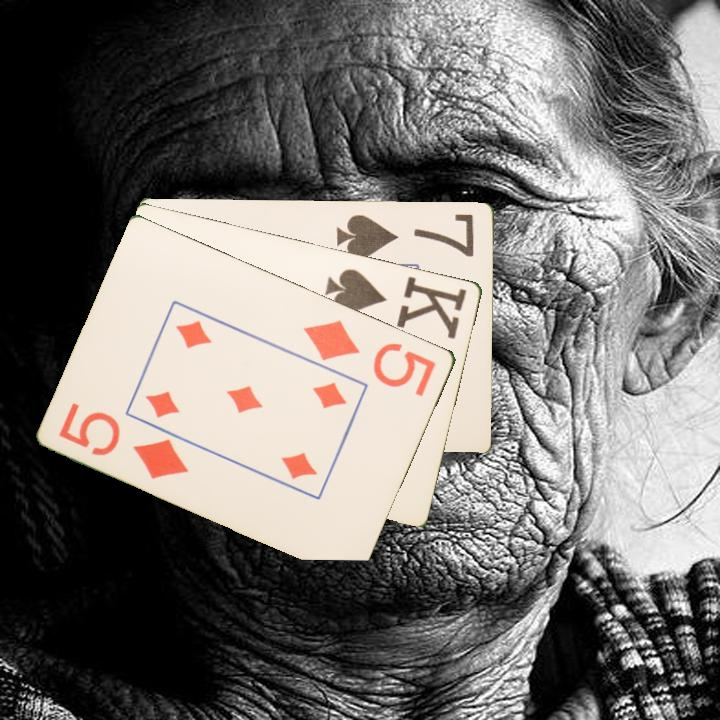5d: (300, 315, 439, 399), (56, 398, 192, 482)
7s: (333, 209, 478, 261)
Ks: (322, 264, 470, 341)
